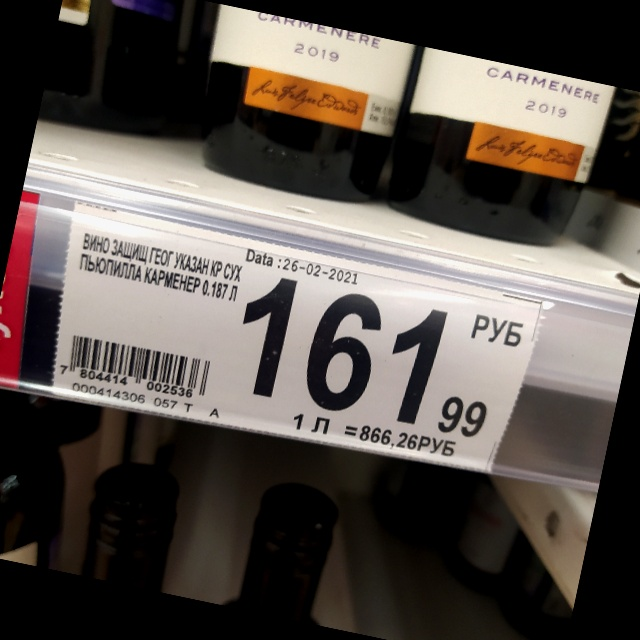barcode: (59, 333, 216, 403)
name: (77, 231, 245, 307)
price: (245, 278, 490, 441)
price_tag: (52, 199, 544, 476)
